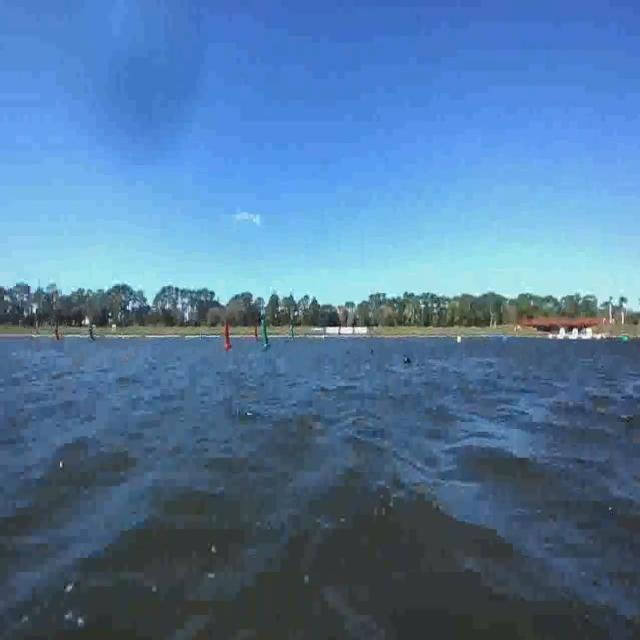black-buoy: (402, 352, 411, 365)
green-column-buoy: (262, 318, 272, 350), (90, 324, 97, 344), (289, 323, 295, 341)
red-column-buoy: (222, 322, 232, 349), (56, 326, 63, 341), (254, 321, 259, 342)
yellow-buoy: (456, 331, 464, 344)
